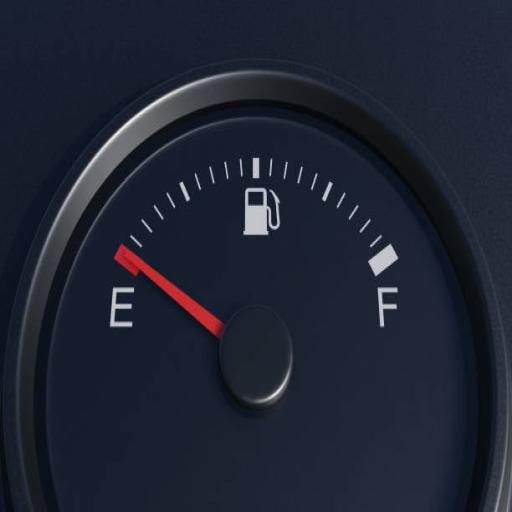empty: (106, 281, 142, 340)
fuel_icon: (239, 184, 284, 245)
full: (371, 282, 407, 333)
guage_area: (28, 76, 510, 512)
needle_center: (205, 294, 301, 409)
needle_tip: (119, 248, 144, 270)
